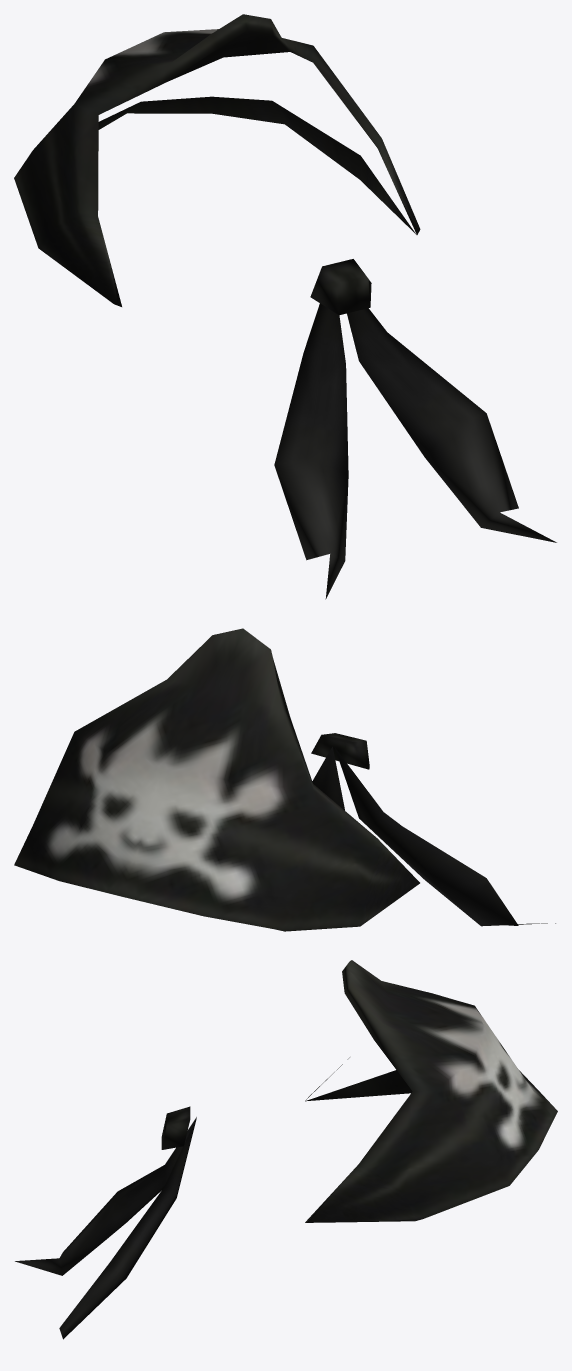
The model's file is pirateBandanaR.glb.
The picture shows the model from 3 angles, top to bottom: view 1: azimuth 30°, elevation 25°; view 2: azimuth 150°, elevation 25°; view 3: azimuth 270°, elevation 25°; orthographic projection. The views are drawn at different scales.
Visible parts, largest first — view 1: pirateBandanaR; view 2: pirateBandanaR; view 3: pirateBandanaR.
Boxes of the visible parts, x1,y1,x2,y2 form: pirateBandanaR: (14,14,556,599); pirateBandanaR: (14,628,555,931); pirateBandanaR: (15,960,557,1339).
Bounding box in the file's own units: 0.2406 × 0.2937 × 0.4162.
Materials: 1 (1 with a texture image).
